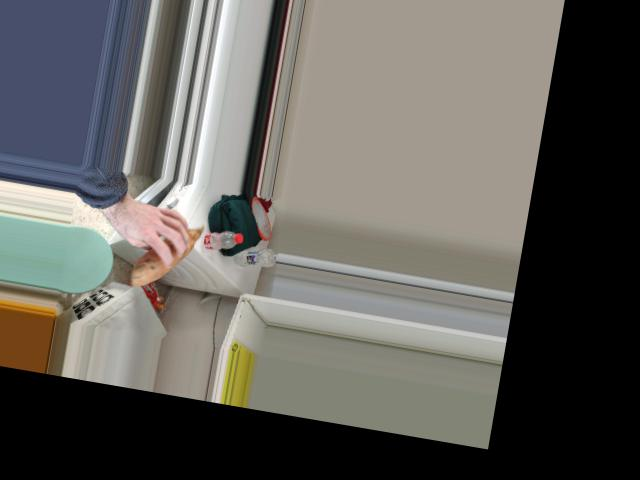sweet_potato: (131, 211, 202, 291)
